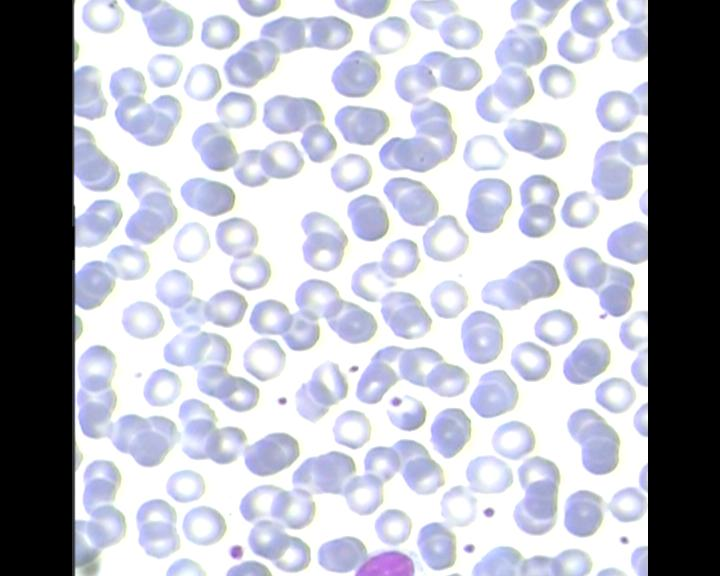lymp: (353, 546, 432, 576)
